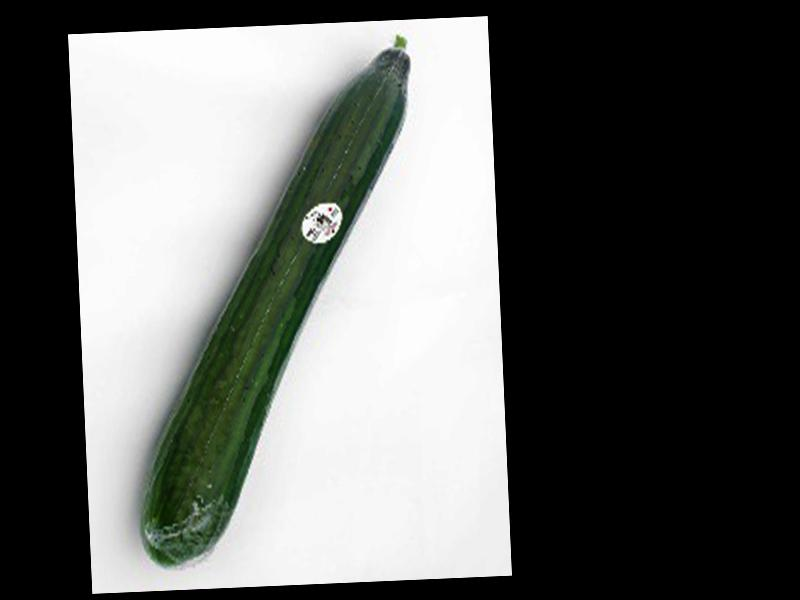Cucumber: (123, 36, 432, 563)
